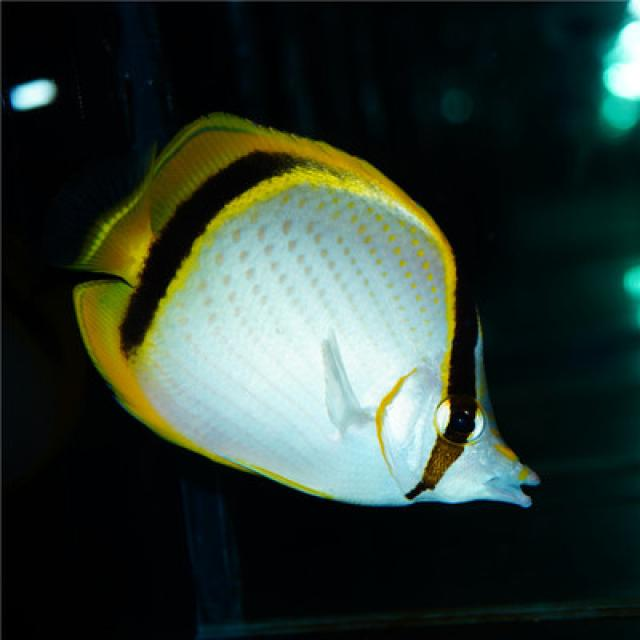ButterflyFish: (71, 114, 541, 516)
